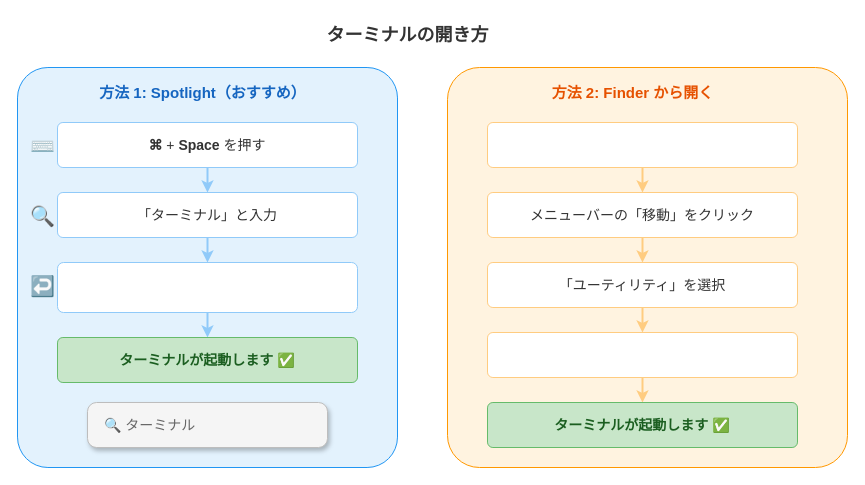
Image size: 865x485. Some labels were removed from this diagram. Each missing label, with the centre of its shape:
Finder を開く: (x=642, y=145)
「ターミナル.app」が表示されたら Enter を押す: (x=207, y=287)
「ターミナル」をダブルクリック: (x=642, y=355)
